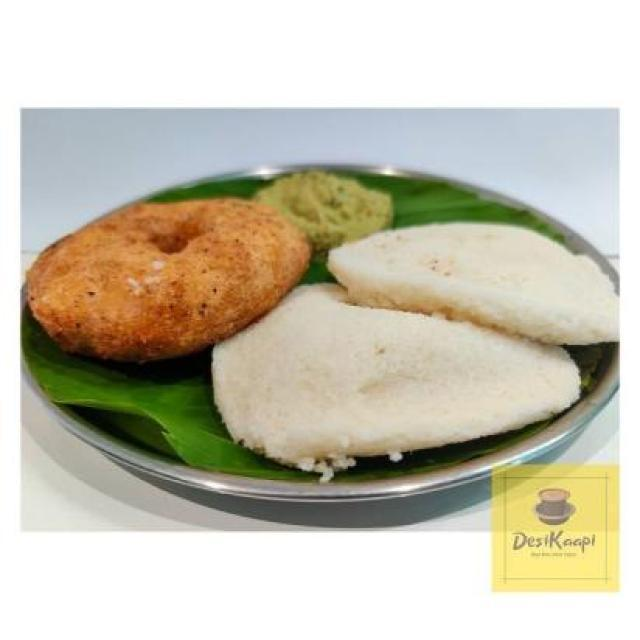idli: (205, 268, 597, 454), (314, 200, 630, 350)
vada: (16, 176, 316, 347)
